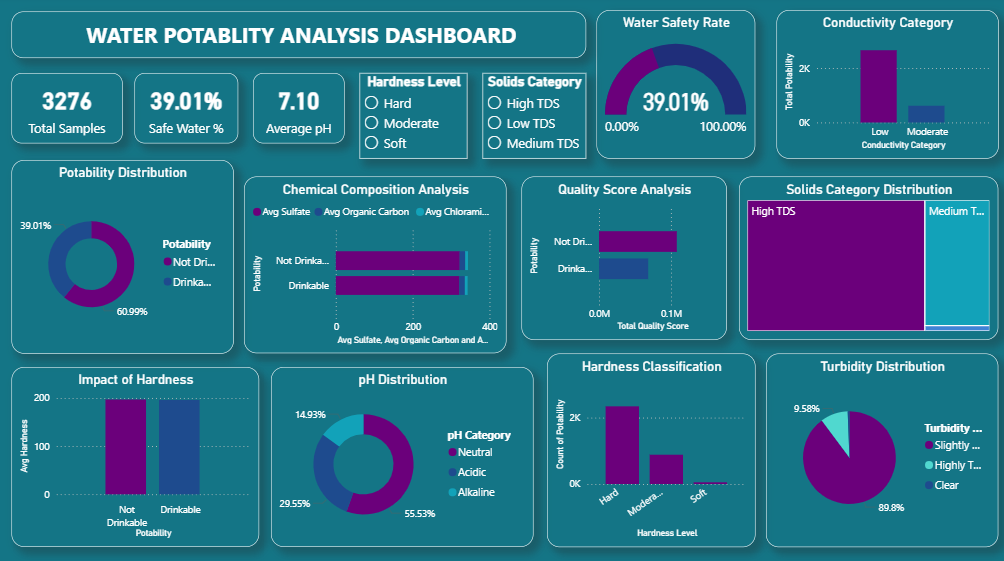

What the dashboard file says about the page in this screenshot:
{"tool":"powerbi","page":{"name":"Page 1","canvas":[1280,720],"ordinal":0},"visuals":[{"type":"donutChart","title":"Potability Distribution","fields":{"Category":["water_potability.Potability"],"Y":["CountNonNull(water_potability.Potability)"]},"box":[17,207.9,279.7,243.8],"z":0},{"type":"barChart","title":"Chemical Composition Analysis","fields":{"Category":["water_potability.Potability"],"Y":["Avg(water_potability.Sulfate)","Avg(water_potability.Organic_carbon)","Avg(water_potability.Chloramines)"]},"box":[309.9,228.7,330.7,223],"z":1000},{"type":"clusteredColumnChart","title":"Impact of Hardness","fields":{"Category":["water_potability.Potability"],"Y":["Avg(water_potability.Hardness)"]},"box":[17,468.7,311.8,226.8],"z":2000},{"type":"donutChart","title":"pH Distribution","fields":{"Y":["CountNonNull(water_potability.Potability)"],"Category":["water_potability.pH Category"]},"box":[343.9,468.7,330.7,226.8],"z":3000},{"type":"clusteredColumnChart","title":"Hardness Classification","fields":{"Category":["water_potability.Hardness Level"],"Y":["CountNonNull(water_potability.Potability)"]},"box":[691.7,451.7,262.7,243.8],"z":4000},{"type":"clusteredBarChart","title":"Quality Score Analysis","fields":{"Category":["water_potability.Potability"],"Y":["Sum(water_potability.Quality Score)"]},"box":[659.5,228.7,258.9,206],"z":5000},{"type":"pieChart","title":"Turbidity Distribution","fields":{"Y":["CountNonNull(water_potability.Potability)"],"Category":["water_potability.Turbidity Category"]},"box":[967.6,451.7,292.9,243.8],"z":5001},{"type":"treemap","title":"Solids Category Distribution","fields":{"Values":["Sum(water_potability.Quality Score)"],"Group":["water_potability.Solids Category"]},"box":[933.6,228.7,326.9,206],"z":5002},{"type":"clusteredColumnChart","title":"Conductivity Category","fields":{"Category":["water_potability.Conductivity Category"],"Y":["CountNonNull(water_potability.Potability)"]},"box":[980.8,18.9,279.7,187.1],"z":5003},{"type":"gauge","fields":{"Y":["water_potability.Water Safety Rate"]},"box":[754,18.9,200.3,187.1],"z":5004},{"type":"textbox","box":[17,20.8,723.8,58.6],"z":5005},{"type":"card","fields":{"Values":["water_potability.Total Samples"]},"box":[17,98.3,139.8,88.8],"z":5006},{"type":"card","fields":{"Values":["water_potability.Safe Water %"]},"box":[172,98.3,130.4,88.8],"z":5007},{"type":"card","fields":{"Values":["Avg(water_potability.ph)"]},"box":[321.3,98.3,115.3,88.8],"z":5008},{"type":"listSlicer","fields":{"Values":["water_potability.Hardness Level"]},"box":[455.4,98.3,136.1,107.7],"z":5009},{"type":"listSlicer","fields":{"Values":["water_potability.Solids Category"]},"box":[610.4,98.3,130.4,107.7],"z":5010}]}

Visuals, with their boxes in screenshot pixels (x1, y1, x2, y2), scaled from the page's 1280x720 canvas onto the 1004x561 screenshot:
"Potability Distribution" donutChart: bbox=(13, 162, 233, 352)
"Chemical Composition Analysis" barChart: bbox=(243, 178, 502, 352)
"Impact of Hardness" clusteredColumnChart: bbox=(13, 365, 258, 542)
"pH Distribution" donutChart: bbox=(270, 365, 529, 542)
"Hardness Classification" clusteredColumnChart: bbox=(543, 352, 749, 542)
"Quality Score Analysis" clusteredBarChart: bbox=(517, 178, 720, 339)
"Turbidity Distribution" pieChart: bbox=(759, 352, 989, 542)
"Solids Category Distribution" treemap: bbox=(732, 178, 989, 339)
"Conductivity Category" clusteredColumnChart: bbox=(769, 15, 989, 161)
gauge - water_potability.Water Safety Rate: bbox=(591, 15, 749, 161)
textbox: bbox=(13, 16, 581, 62)
card - water_potability.Total Samples: bbox=(13, 77, 123, 146)
card - water_potability.Safe Water %: bbox=(135, 77, 237, 146)
card - Avg(water_potability.ph): bbox=(252, 77, 342, 146)
listSlicer - water_potability.Hardness Level: bbox=(357, 77, 464, 161)
listSlicer - water_potability.Solids Category: bbox=(479, 77, 581, 161)
